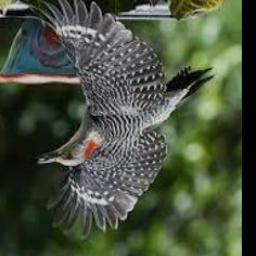Woodpecker: (14, 0, 214, 240)
